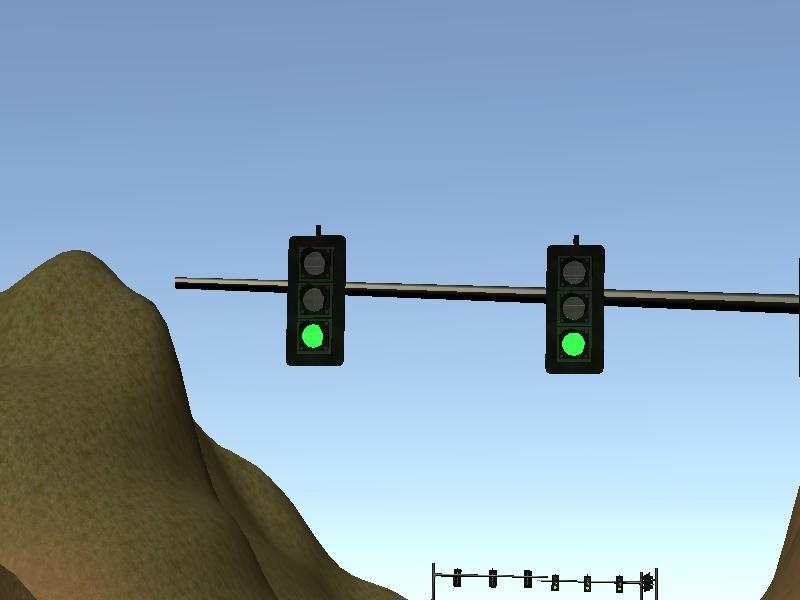green: (534, 240, 609, 377), (282, 229, 347, 370)
